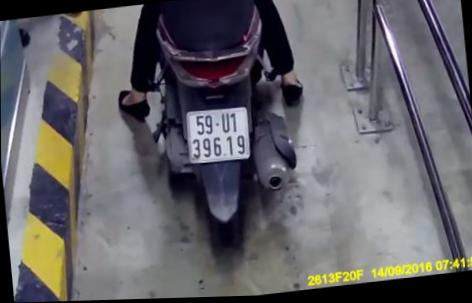LP: (182, 105, 255, 168)
